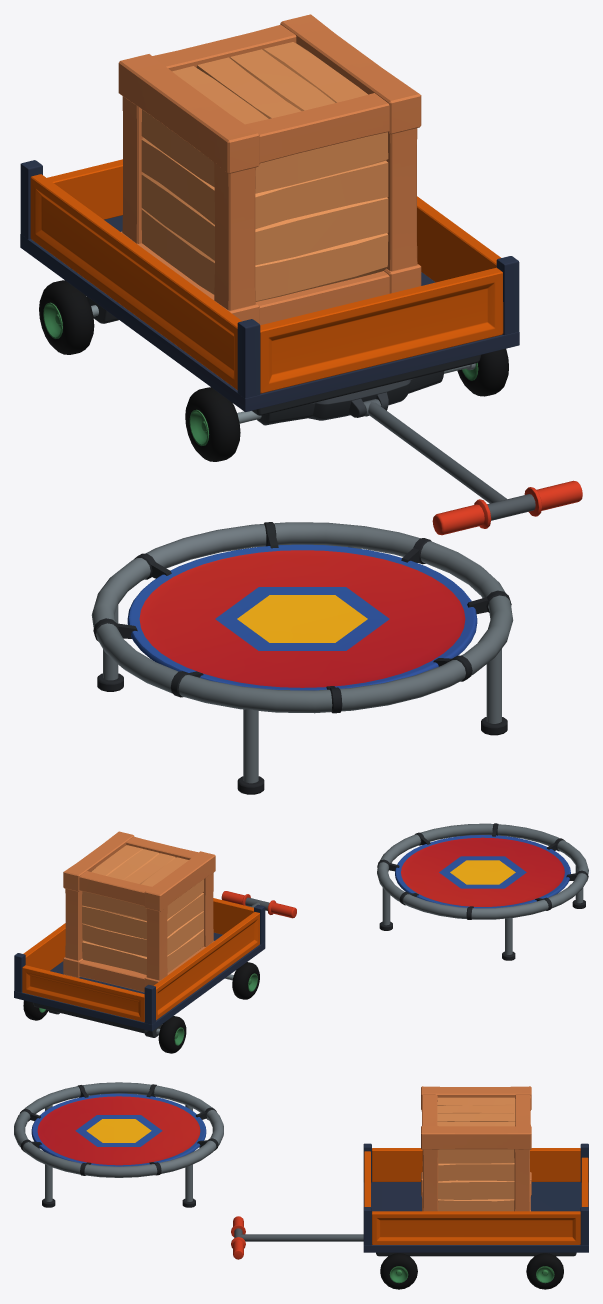
Rendered from Cart_DestroyBox_Trampoline.fbx.
3 renders of one model, top to bottom at view 1: azimuth 30°, elevation 25°; view 2: azimuth 150°, elevation 25°; view 3: azimuth 270°, elevation 25°, orthographic. The views are drawn at different scales.
Visible parts, largest first — view 1: Destroy_box, trampoline, body, Handler, front_wheel, forwart_turn_control, back_wheel; view 2: Destroy_box, trampoline, body, back_wheel, front_wheel, Handler; view 3: body, trampoline, Destroy_box, Handler, back_wheel, front_wheel.
Boxes of the visible parts, x1,y1,x2,y2 form: Destroy_box: (118,14,421,325); trampoline: (91,522,513,794); body: (20,159,519,415); Handler: (363,399,582,535); front_wheel: (185,348,508,461); forwart_turn_control: (237,363,475,425); back_wheel: (39,280,94,354); Destroy_box: (63,831,215,992); trampoline: (377,823,588,960); body: (14,898,265,1037); back_wheel: (23,1000,186,1053); front_wheel: (232,962,259,999); Handler: (221,891,296,918); body: (363,1143,588,1256); trampoline: (14,1082,223,1207); Destroy_box: (421,1086,531,1211); Handler: (231,1216,363,1259); back_wheel: (526,1253,563,1289); front_wheel: (380,1253,417,1289).
Size of the model in its own units: 873 by 372 by 1326.
